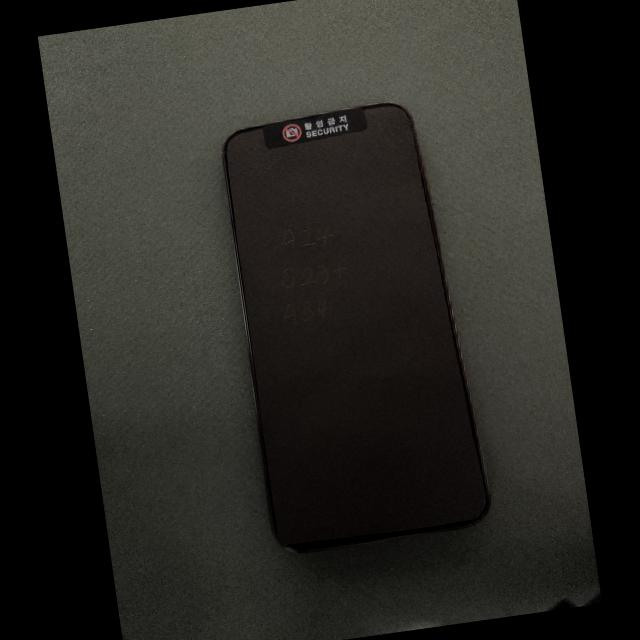phone: (223, 103, 489, 551)
sticker: (264, 108, 367, 150)
